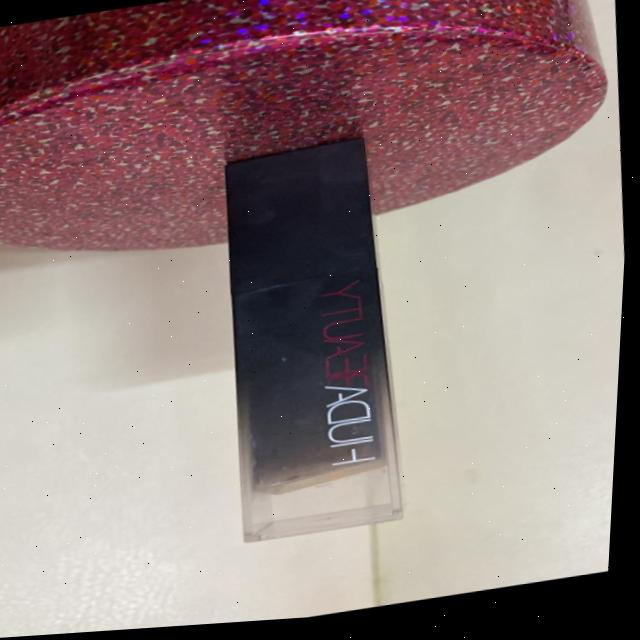lip stick: (164, 114, 444, 572)
